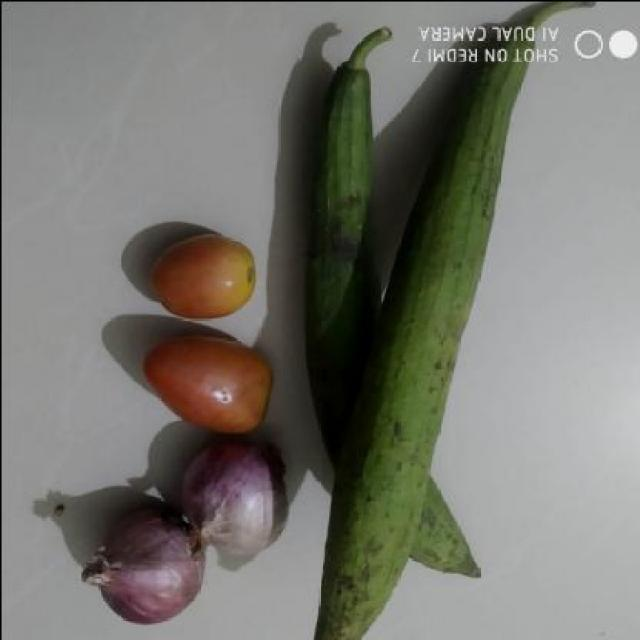onion: (67, 512, 199, 626), (184, 444, 282, 556)
tomato: (138, 326, 267, 440), (136, 226, 264, 322)
